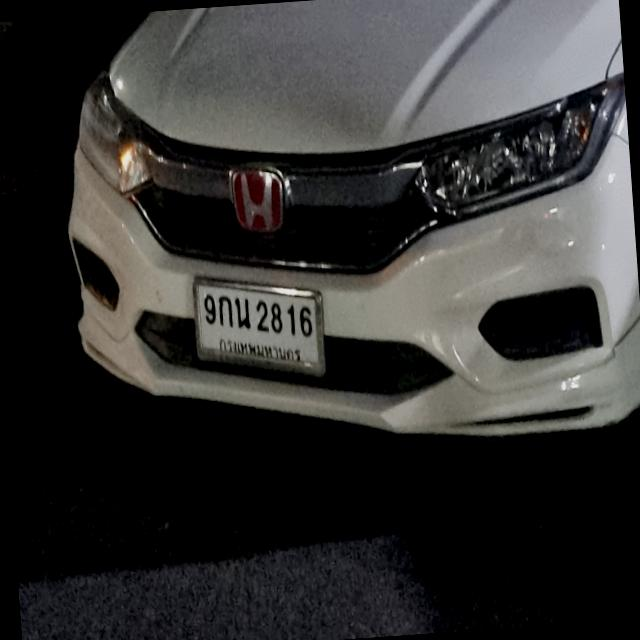license_plate: (190, 264, 330, 385)
